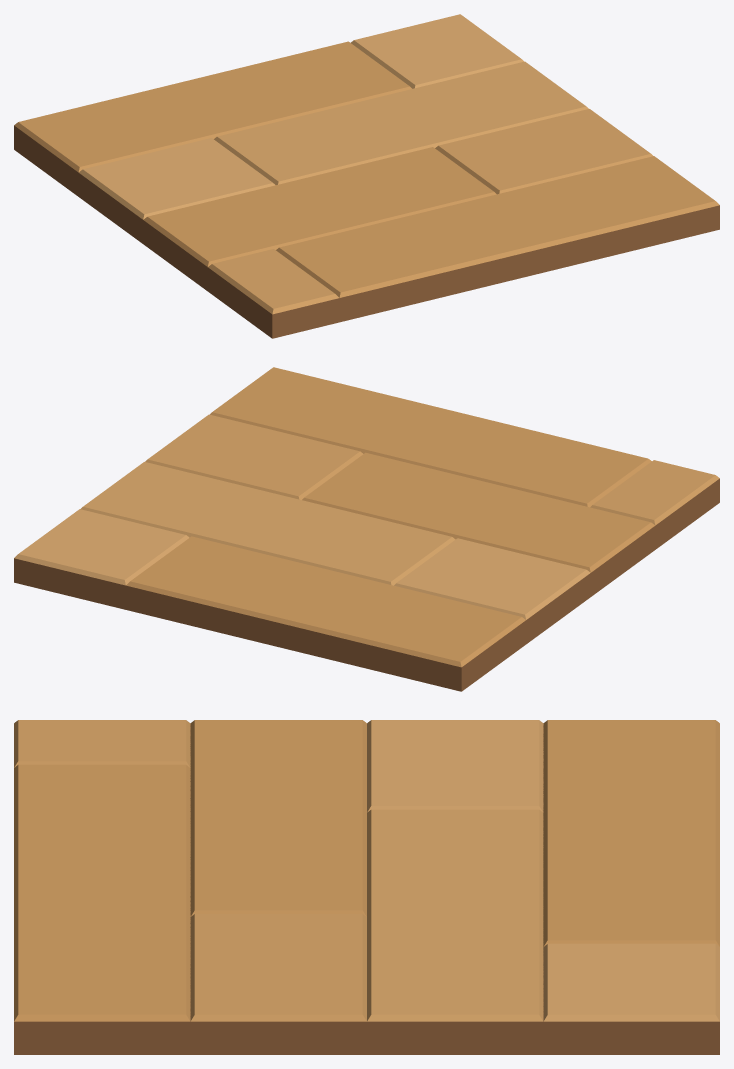
The model's file is wg_boden_holz_b.glb.
3 renders of one model, top to bottom at view 1: azimuth 30°, elevation 25°; view 2: azimuth 150°, elevation 25°; view 3: azimuth 270°, elevation 25°, orthographic. The views are drawn at different scales.
Parts seen in each view (by area): view 1: wg_boden_holz_b; view 2: wg_boden_holz_b; view 3: wg_boden_holz_b.
Part boxes in pixels (box(x1,y1,x2,y2)): wg_boden_holz_b: box(14, 14, 719, 338); wg_boden_holz_b: box(14, 367, 719, 691); wg_boden_holz_b: box(14, 720, 719, 1054).
Size of the model in its own units: 1 by 0.06 by 1.
